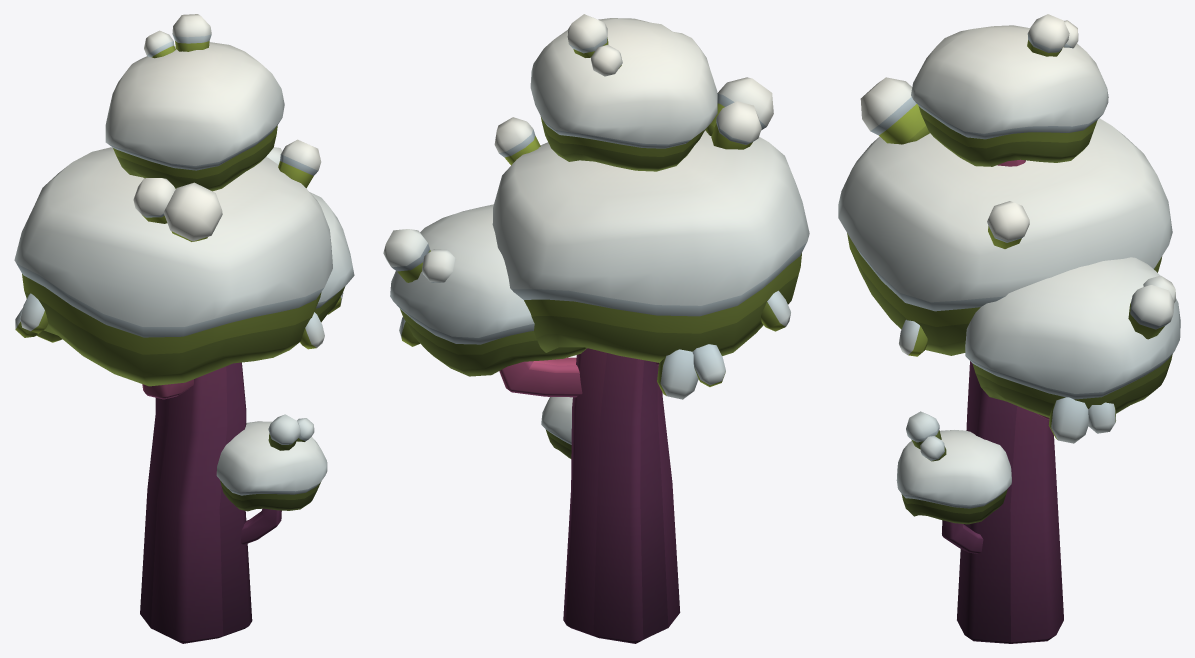
Rendered from grassland_tree_col1_3_snow.fbx.
3 renders of one model, left to right at view 1: azimuth 30°, elevation 25°; view 2: azimuth 150°, elevation 25°; view 3: azimuth 270°, elevation 25°, orthographic. The views are drawn at different scales.
Visible parts, largest first — view 1: grassland_tree_col1_3_snow; view 2: grassland_tree_col1_3_snow; view 3: grassland_tree_col1_3_snow.
Boxes of the visible parts, <box> form: grassland_tree_col1_3_snow: <box>14,14,354,643</box>; grassland_tree_col1_3_snow: <box>383,14,809,643</box>; grassland_tree_col1_3_snow: <box>838,14,1180,643</box>.
Size of the model in its own units: 652 by 1085 by 547.
